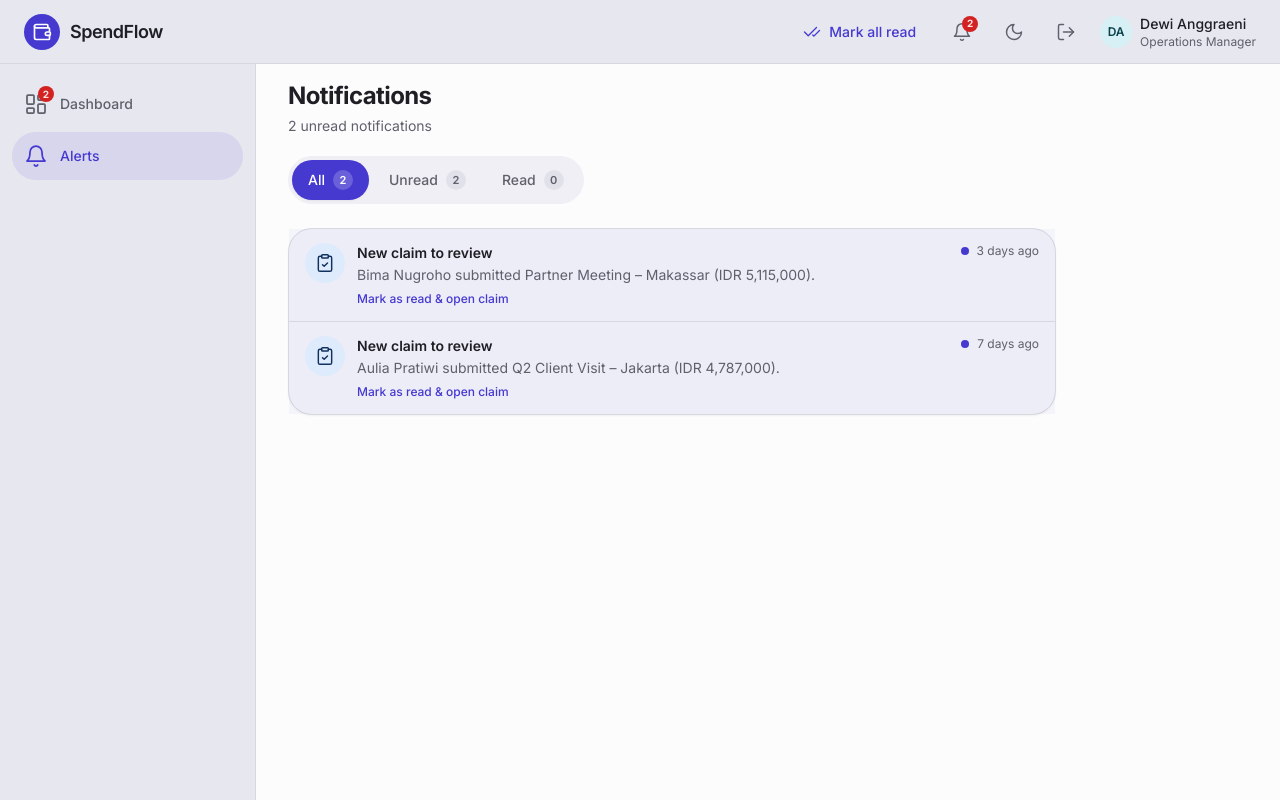
Scenario: Notification center — badge, filter & click navigation › unread badge count decrements reactively after a notification is marked read
The width and height of the screenshot is (1280, 800).
Expected: the link named "notifications, 2 unread" is shown, x1=952 y1=16 x2=978 y2=42
# Click one notification → marks it read (and would navigate).
What coordinates should you click on to do the following:
click the button "Aulia Pratiwi submitted"
I would click on:
 (672, 368)
Its box is x1=289 y1=322 x2=1055 y2=414.
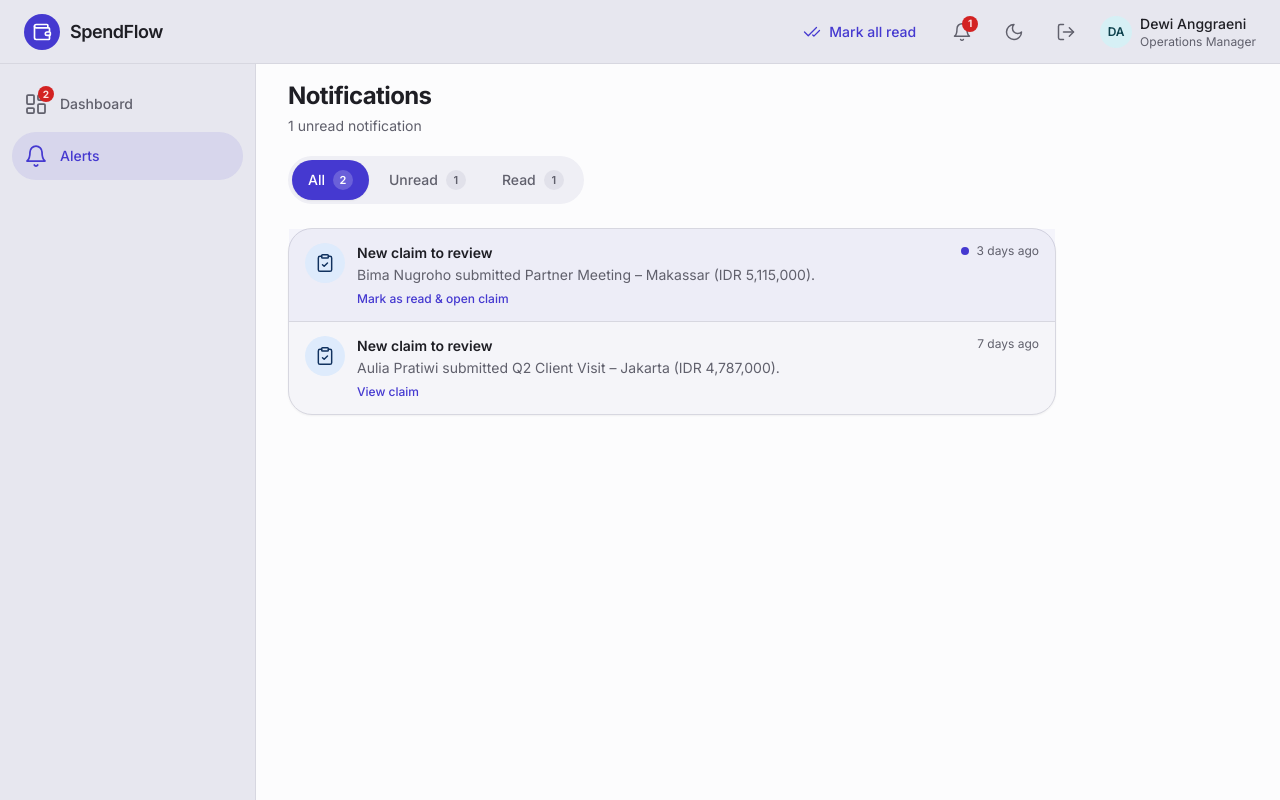
Result: the link named "notifications, 1 unread" is shown at x1=952 y1=16 x2=978 y2=42
